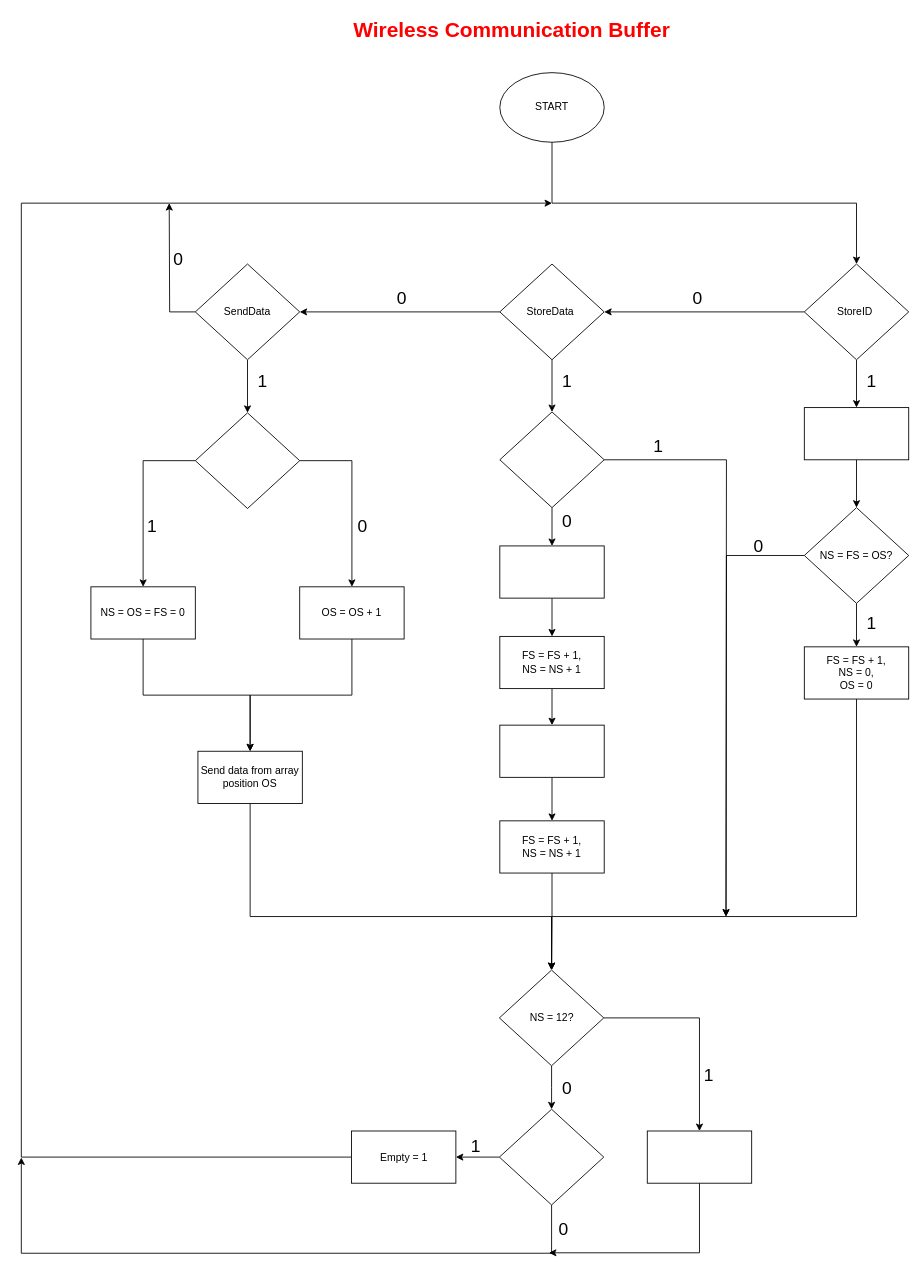
Image size: 924x1275. Some labels were removed from this diagram. The shapes that lost their labels are listed below. From the top down, each one's box as (x1, y1, x2, y2) in pixels, then its label:
(803, 407, 909, 460): Store Data in array position FS
(194, 412, 300, 509): OS = 12?
(499, 411, 604, 508): FS = 12?
(499, 545, 604, 598): Store MSB byte in position FS
(499, 724, 604, 777): Store LSB byte in position FS
(499, 1108, 604, 1205): OS = 0?
(646, 1130, 752, 1183): Empty = 0
